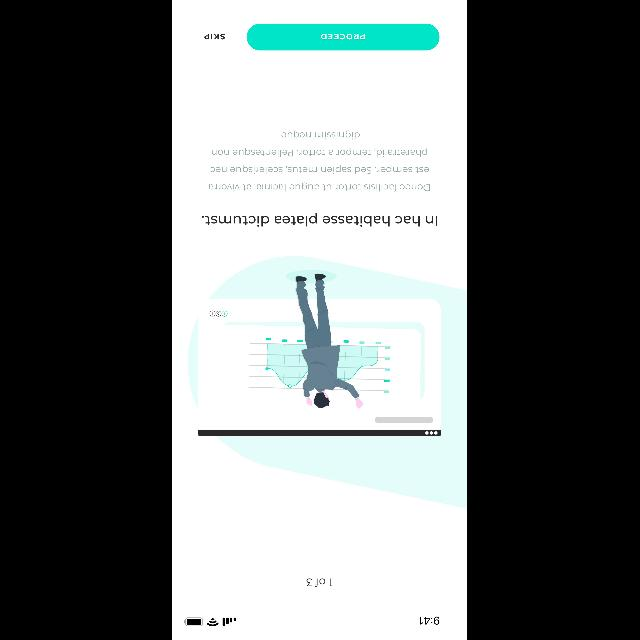image: (198, 270, 442, 436)
text: (210, 130, 430, 192), (202, 214, 438, 226), (307, 578, 333, 586), (205, 34, 225, 40)
textbutton: (248, 24, 440, 50)
uppertaskbar: (184, 616, 440, 626)
